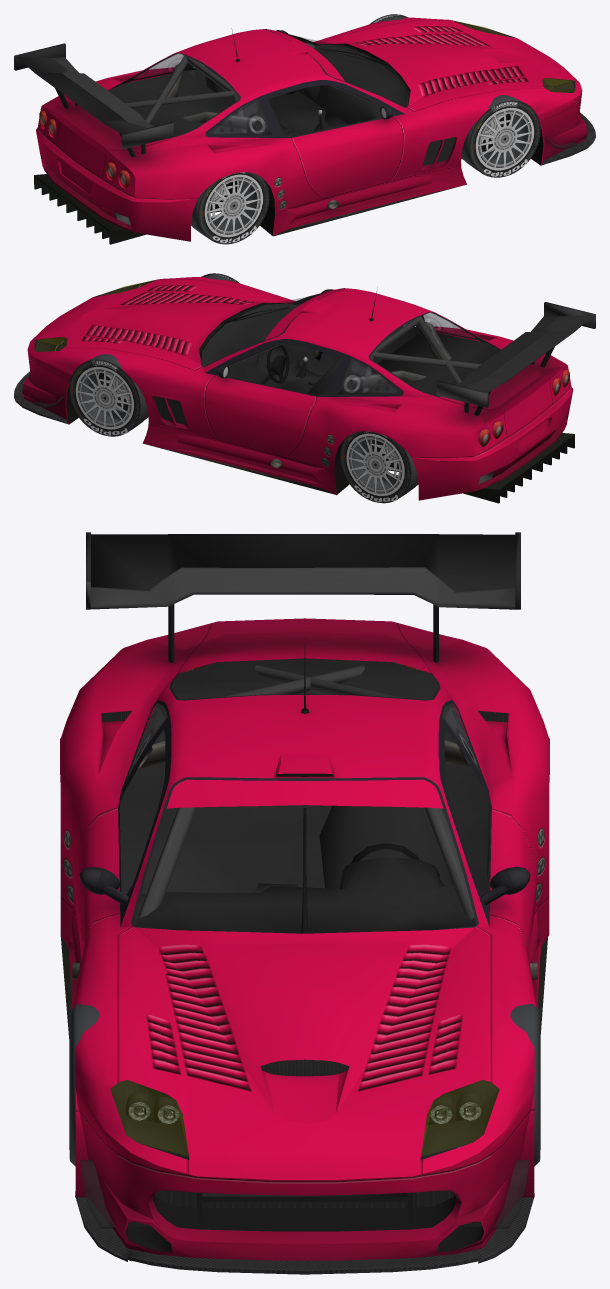
File: sd-ls1-cavallo-570s1.glb
The picture shows the model from 3 angles, top to bottom: view 1: azimuth 30°, elevation 25°; view 2: azimuth 150°, elevation 25°; view 3: azimuth 270°, elevation 25°; orthographic projection. The views are drawn at different scales.
Visible parts, largest first — view 1: paint_2, detail_0, glass_1, Rim_FrontRight, Rim_RearRight, Tire_FrontRight, Tire_RearRight; view 2: paint_2, detail_0, glass_1, Rim_FrontLeft, Rim_RearLeft, Tire_FrontLeft, Tire_RearLeft, gt_steering_STEER_s_3_3; view 3: paint_2, detail_0, glass_1, Tire_FrontLeft, Tire_FrontRight.
Part boxes in pixels (box(x1,y1,x2,y2)): paint_2: box(36, 17, 593, 236); detail_0: box(14, 20, 595, 244); glass_1: box(109, 21, 577, 149); Rim_FrontRight: box(461, 100, 540, 177); Rim_RearRight: box(198, 172, 269, 244); Tire_FrontRight: box(461, 95, 528, 170); Tire_RearRight: box(191, 181, 257, 237); paint_2: box(14, 276, 573, 495); detail_0: box(14, 279, 595, 503); glass_1: box(32, 280, 500, 407); Rim_FrontLeft: box(69, 359, 156, 436); Rim_RearLeft: box(339, 431, 411, 503); Tire_FrontLeft: box(81, 354, 155, 429); Tire_RearLeft: box(352, 439, 418, 495); gt_steering_STEER_s_3_3: box(267, 344, 289, 383); paint_2: box(60, 618, 549, 1274); detail_0: box(72, 532, 537, 1270); glass_1: box(80, 659, 529, 1228); Tire_FrontLeft: box(510, 1004, 540, 1166); Tire_FrontRight: box(69, 1004, 99, 1166).
Size of the model in its own units: 4.76 by 1.48 by 2.03.
5 materials, 4 textured.
